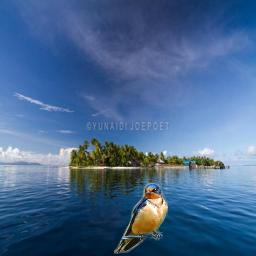Swallow: (114, 183, 168, 254)
